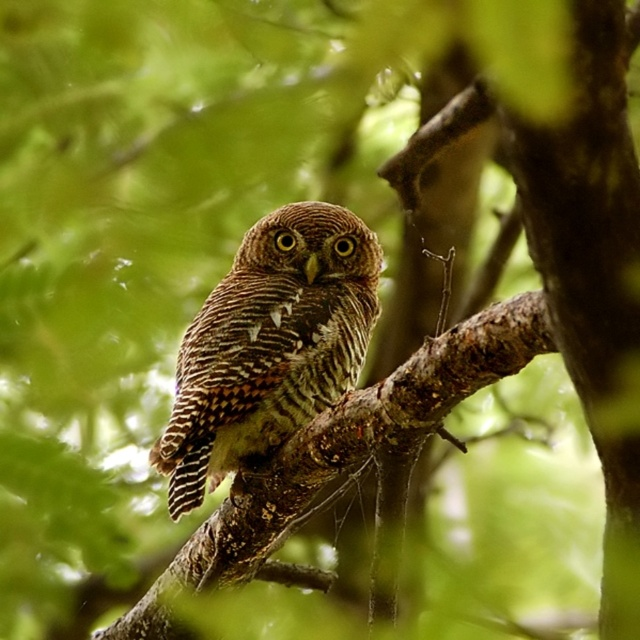Owl: (150, 201, 403, 534)
